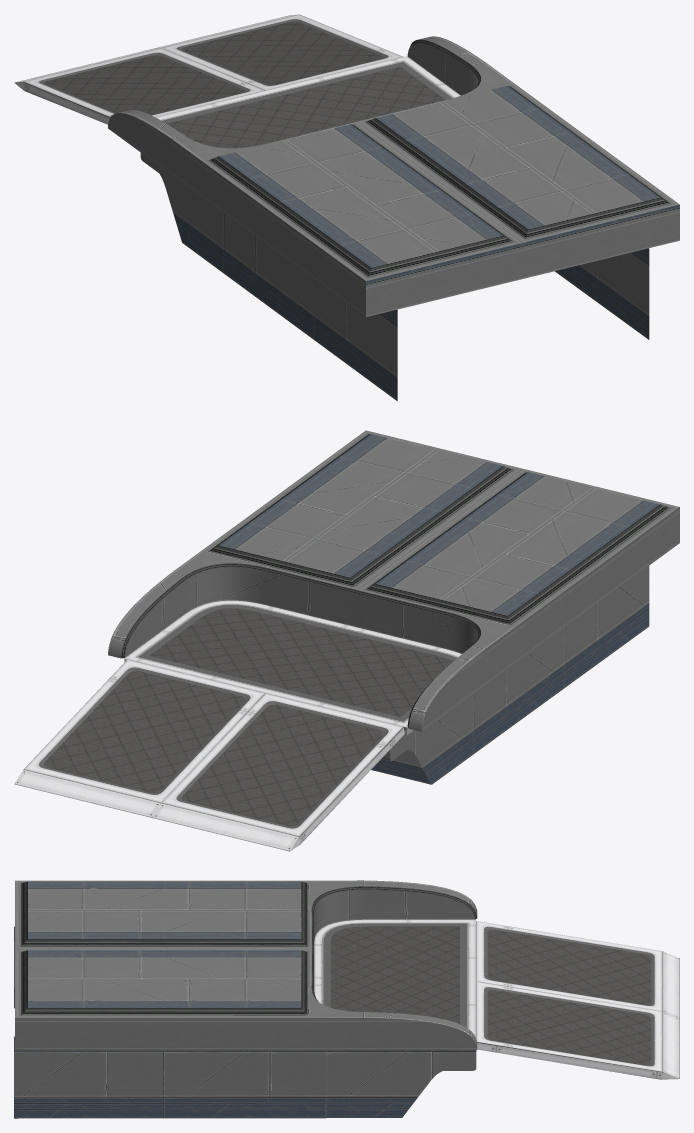
File: Club_PromenadeRise_01.FBX
The picture shows the model from 3 angles, top to bottom: view 1: azimuth 30°, elevation 25°; view 2: azimuth 150°, elevation 25°; view 3: azimuth 270°, elevation 25°; orthographic projection. The views are drawn at different scales.
Visible parts, largest first — view 1: Club_PromenadeRise_01; view 2: Club_PromenadeRise_01; view 3: Club_PromenadeRise_01.
Part boxes in pixels (box(x1,y1,x2,y2)): Club_PromenadeRise_01: box(14, 14, 679, 400); Club_PromenadeRise_01: box(14, 430, 679, 851); Club_PromenadeRise_01: box(14, 880, 679, 1118).
Bounding box in the file's own units: 10 × 4.03 × 20.49.
